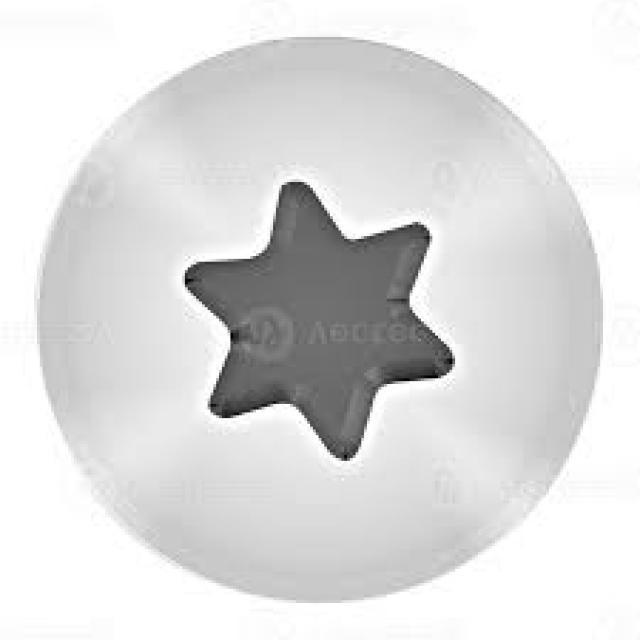torx: (36, 35, 605, 605)
